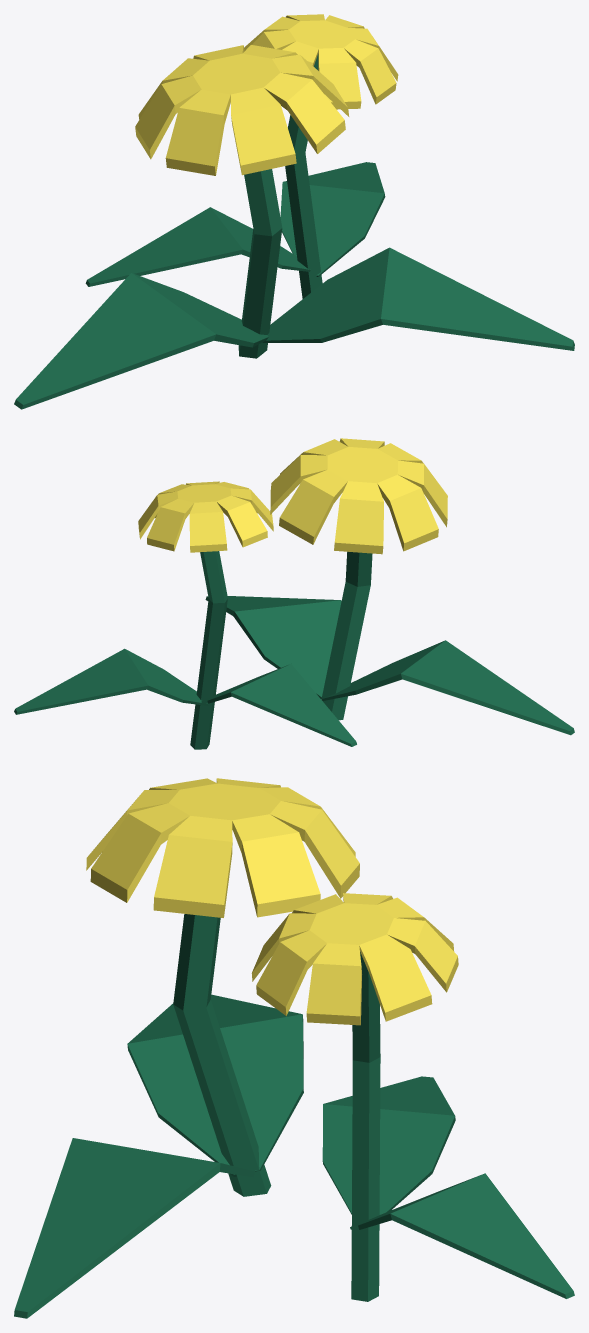
File: Flower_05.fbx
The picture shows the model from 3 angles, top to bottom: view 1: azimuth 30°, elevation 25°; view 2: azimuth 150°, elevation 25°; view 3: azimuth 270°, elevation 25°; orthographic projection. The views are drawn at different scales.
Parts seen in each view (by area): view 1: Flower_05; view 2: Flower_05; view 3: Flower_05.
Part boxes in pixels (x1,y1,x2,y2): Flower_05: (14, 14, 574, 409); Flower_05: (14, 438, 574, 749); Flower_05: (14, 778, 574, 1318).
Size of the model in its own units: 187 by 115 by 140.
